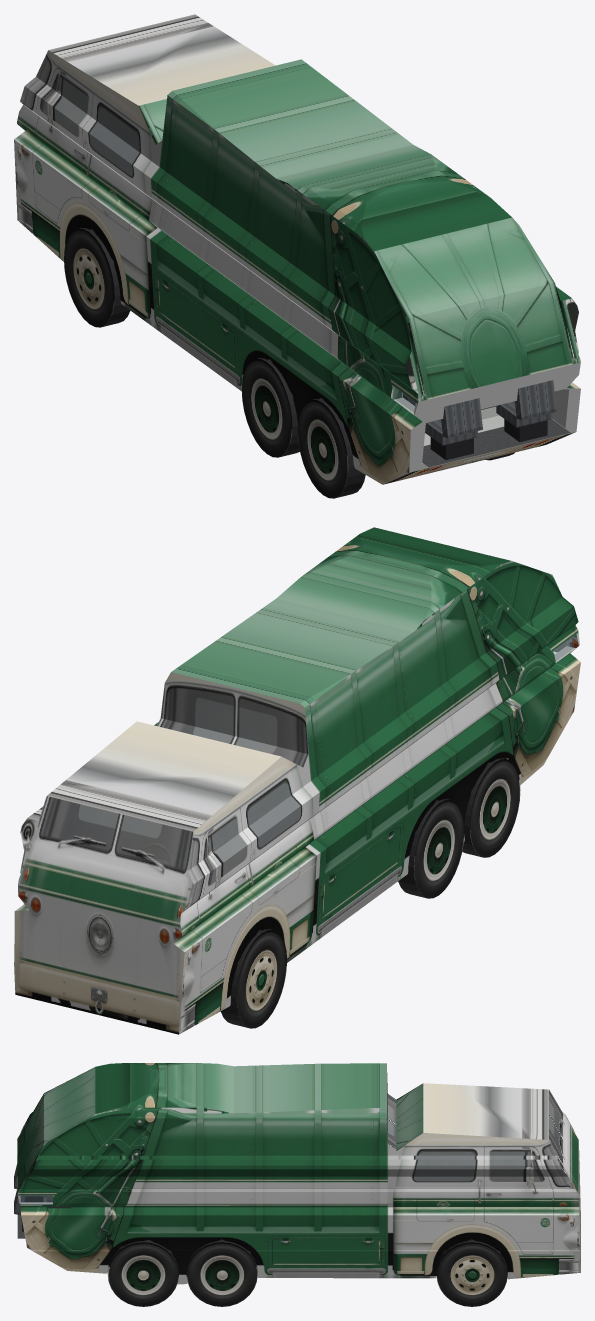
The model's file is garbage_truck.glb.
3 renders of one model, top to bottom at view 1: azimuth 30°, elevation 25°; view 2: azimuth 150°, elevation 25°; view 3: azimuth 270°, elevation 25°, orthographic. The views are drawn at different scales.
Parts seen in each view (by area): view 1: garbage_truck, garbage_truck_cabin, wheel_BL, wheel_FL, wheel_M1L; view 2: garbage_truck, wheel_M1L, wheel_FL, wheel_BL; view 3: garbage_truck, wheel_BR, wheel_FR, wheel_M1R, garbage_truck_cabin.
Part boxes in pixels (<box>): garbage_truck: <box>14,14,580,484</box>; garbage_truck_cabin: <box>395,380,570,467</box>; wheel_BL: <box>297,398,365,498</box>; wheel_FL: <box>64,228,130,327</box>; wheel_M1L: <box>241,358,299,457</box>; garbage_truck: <box>14,527,580,1034</box>; wheel_M1L: <box>398,799,464,898</box>; wheel_FL: <box>220,929,287,1028</box>; wheel_BL: <box>462,758,520,857</box>; garbage_truck: <box>17,1063,580,1284</box>; wheel_BR: <box>107,1239,178,1306</box>; wheel_FR: <box>436,1239,507,1306</box>; wheel_M1R: <box>186,1239,257,1306</box>; garbage_truck_cabin: <box>14,1164,70,1238</box>.
Bounding box in the file's own units: 2.42 × 3.69 × 9.53.
Materials: 11 (4 with a texture image).
